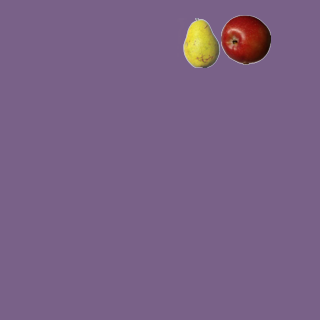Apple Braeburn: (220, 14, 270, 64)
Pear Monster: (176, 17, 226, 67)
